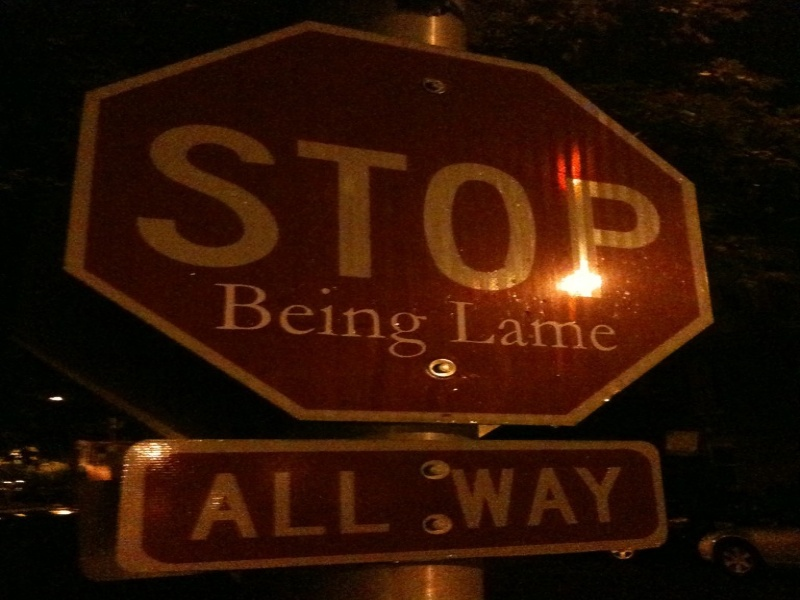all_way: (112, 446, 671, 591)
stop: (67, 38, 743, 417)
